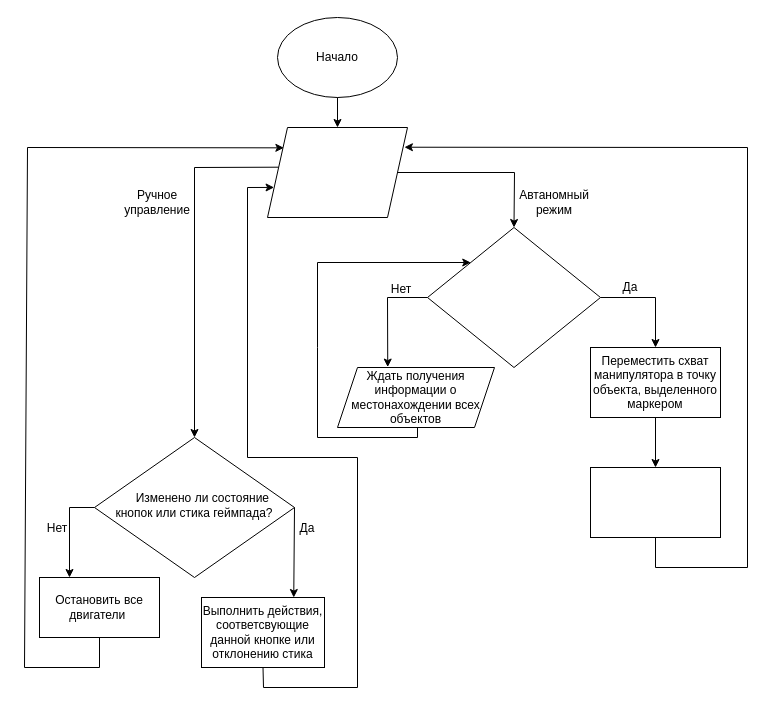
Image size: 773x713. Some labels were removed from this diagram. Here are the shapes that lost their labels. From the top down, the centre of each, then its label:
the point at 337,172: выбор режима управления в зависимости от количества раз нажатия кнопки на стенде
the point at 513,297: Информация о местонахождении всех объектов получена? И задание не выполнено?
the point at 655,502: Выполнить захват объекта и перенести его в выделенную зону
